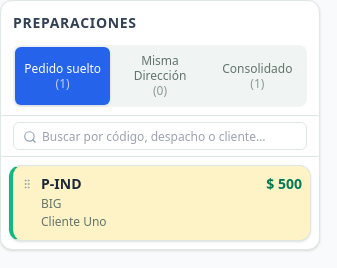
Test: PendingSidebar — pestañas y conteos › cambiar de pestaña filtra por tipo
This screenshot has width=337, height=268.
Expected: the text "P-IND" is shown, [41,174,82,194]
Expected: the text "E-CONS" is not shown
Click the tab "Consolidado (1)".
click(257, 76)  # box [210,47,305,105]
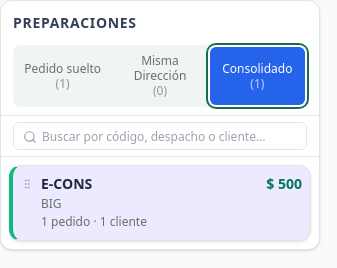
Expected: the text "E-CONS" is shown, [41,174,92,194]
Expected: the text "P-IND" is gone
